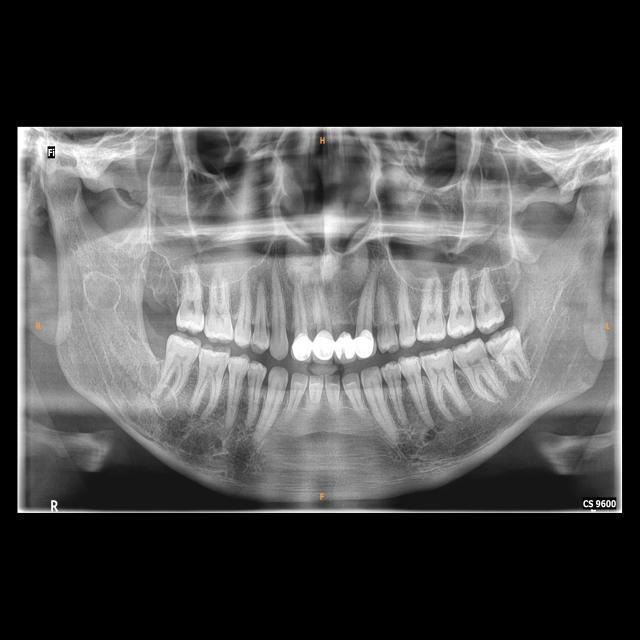kaplama: (311, 325, 336, 362), (355, 328, 379, 359), (291, 330, 313, 362)
kok-enfeksiyonu: (415, 418, 459, 452)
kopru: (327, 323, 365, 362)
